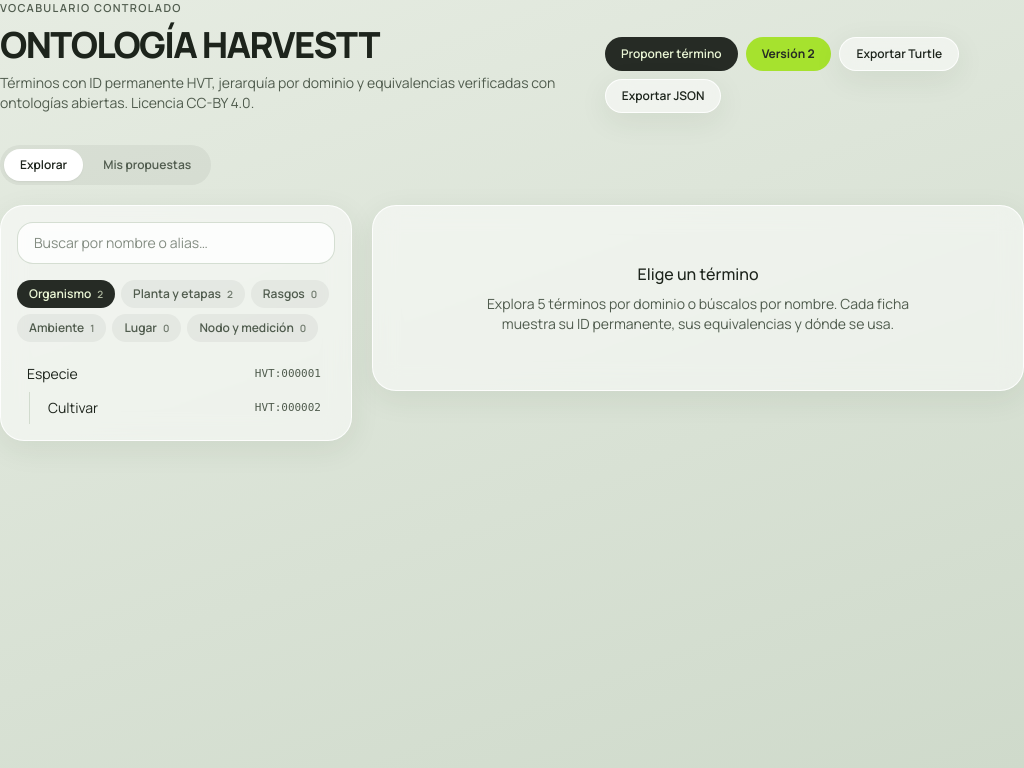
409 muestra el mensaje de duplicado
Expected: the list named "Términos de Organismo" is shown, [17,358,331,424]
Click the button "Proponer término" at (671, 54), box [605,36,738,70]
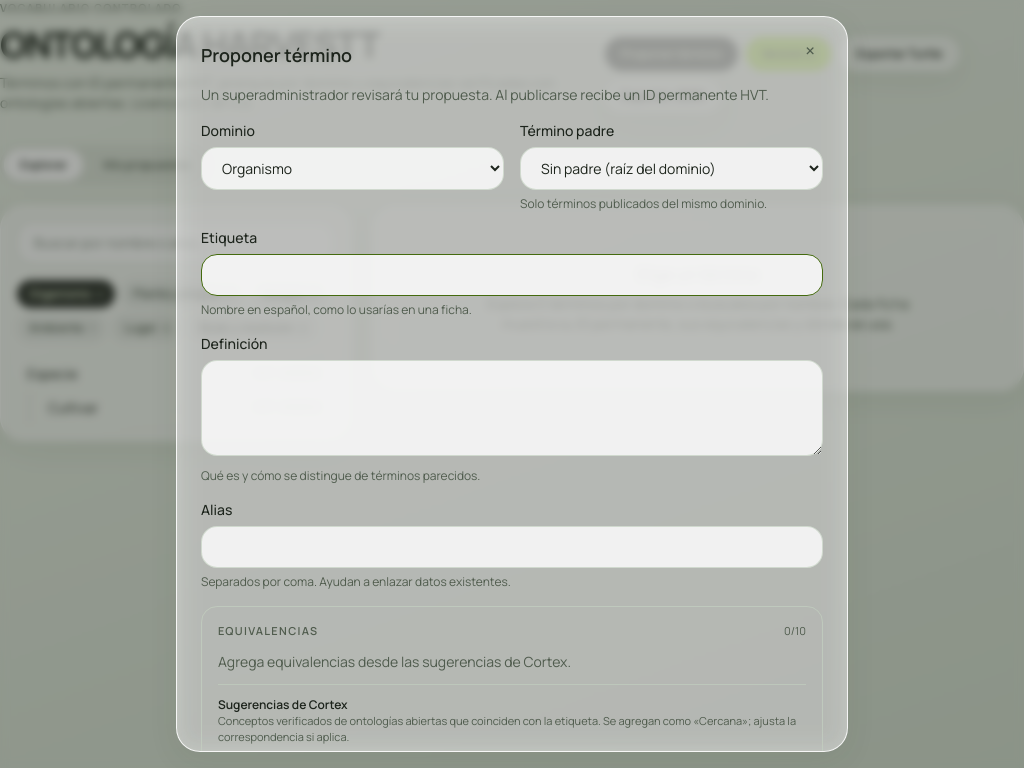
Type "Especie" into the field labelled "Etiqueta" at (512, 275), box [201,254,823,296]
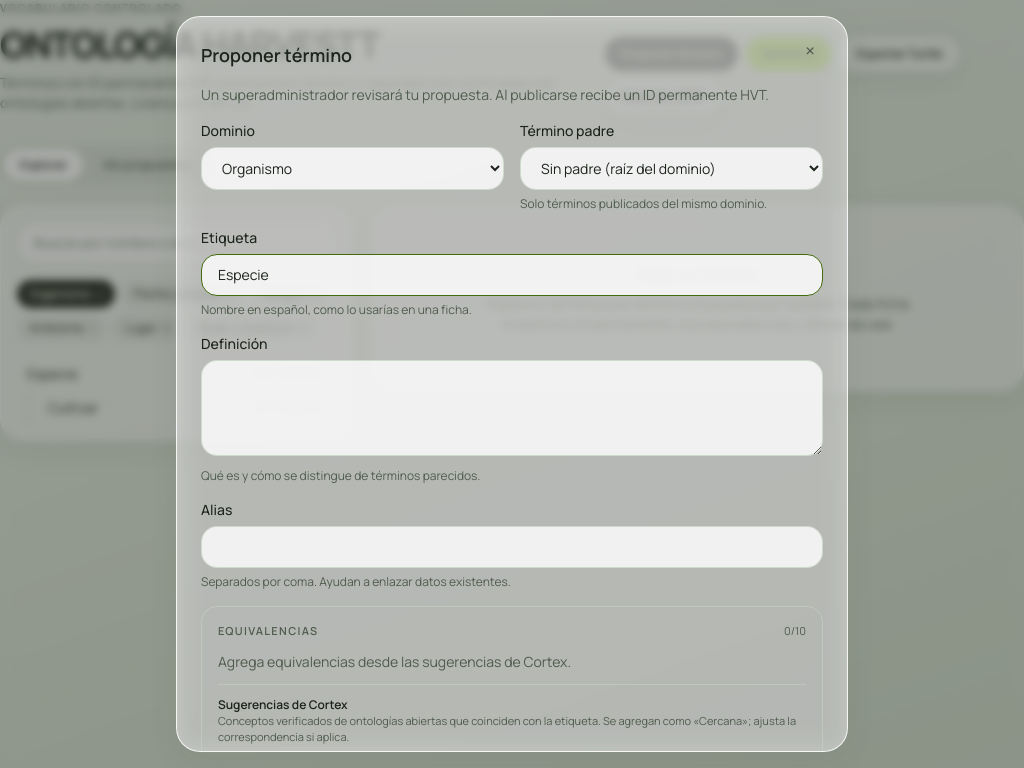
Type "Grupo de plantas de una misma especie con rasgos estables." into the text box labelled "Definición" at (512, 408), box [201,360,823,456]
(page scrolled)
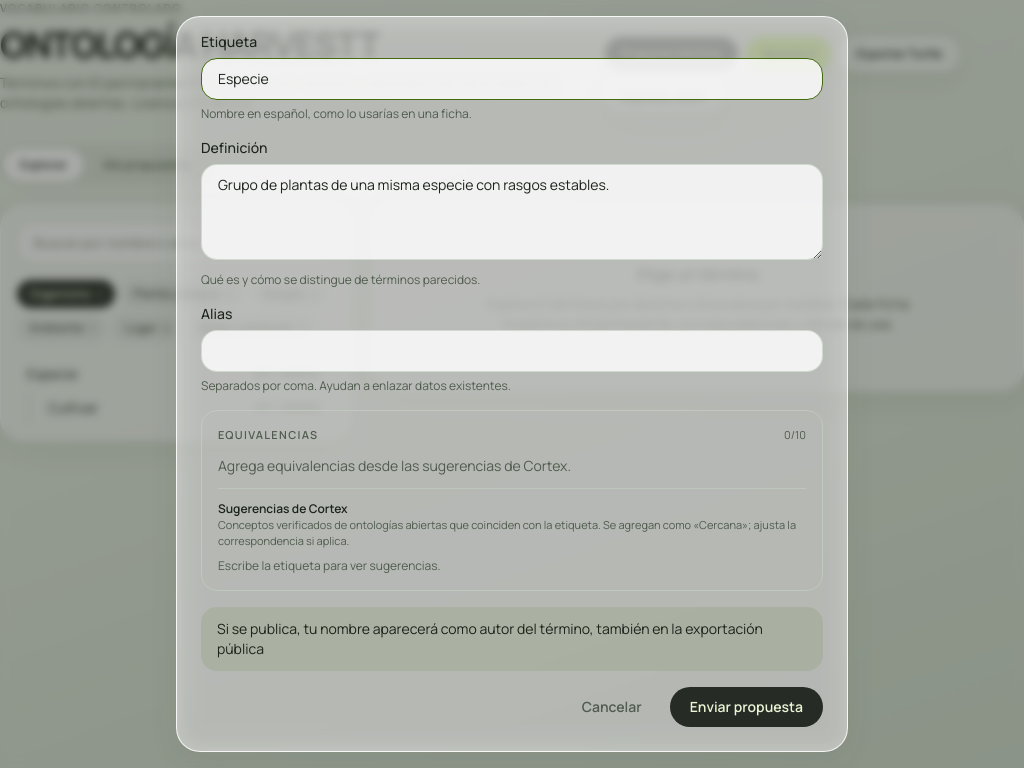
Click the button "Enviar propuesta" at (746, 706), box [670,686,823,726]
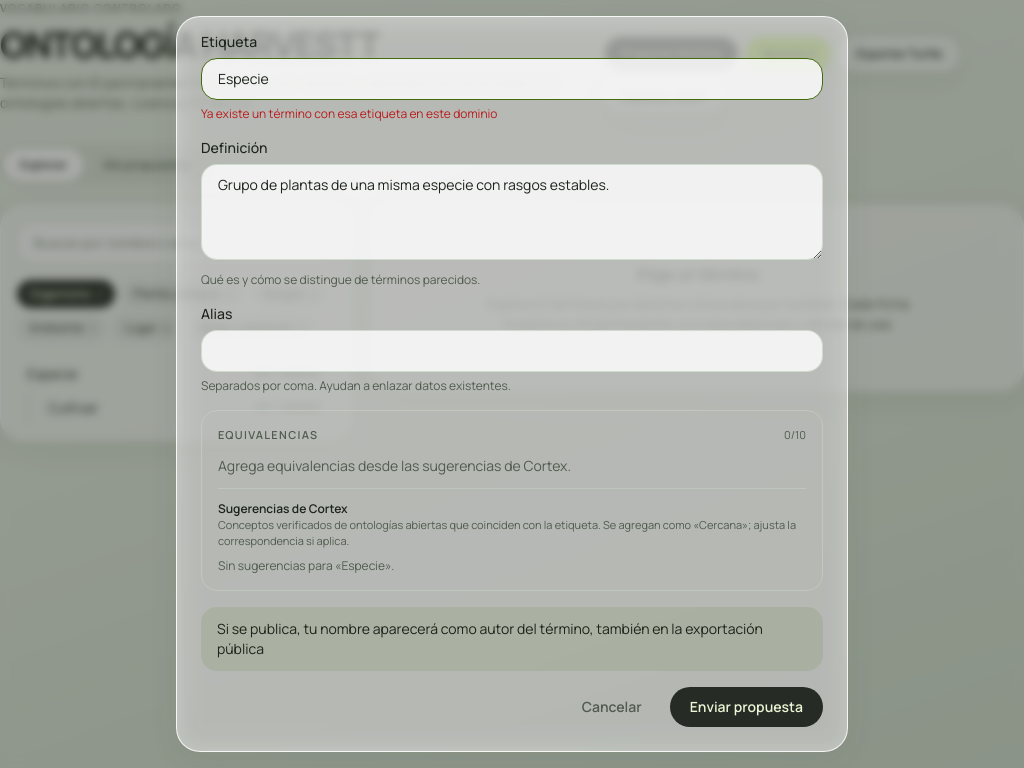
Result: the text "Ya existe un término con esa etiqueta en este dominio" is shown at [201,105,497,122]
